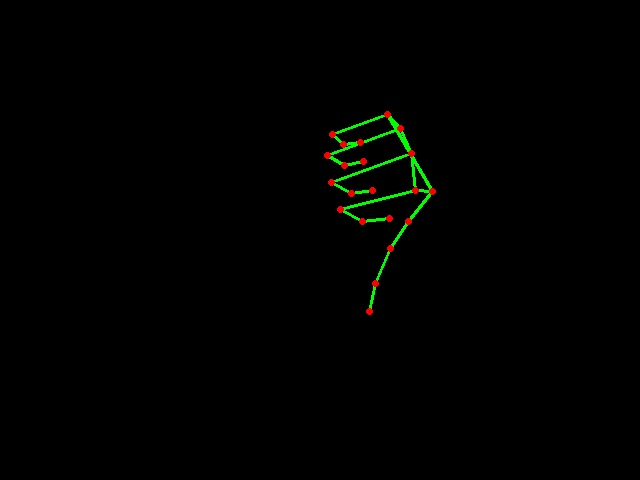slow: (309, 102, 445, 322)
